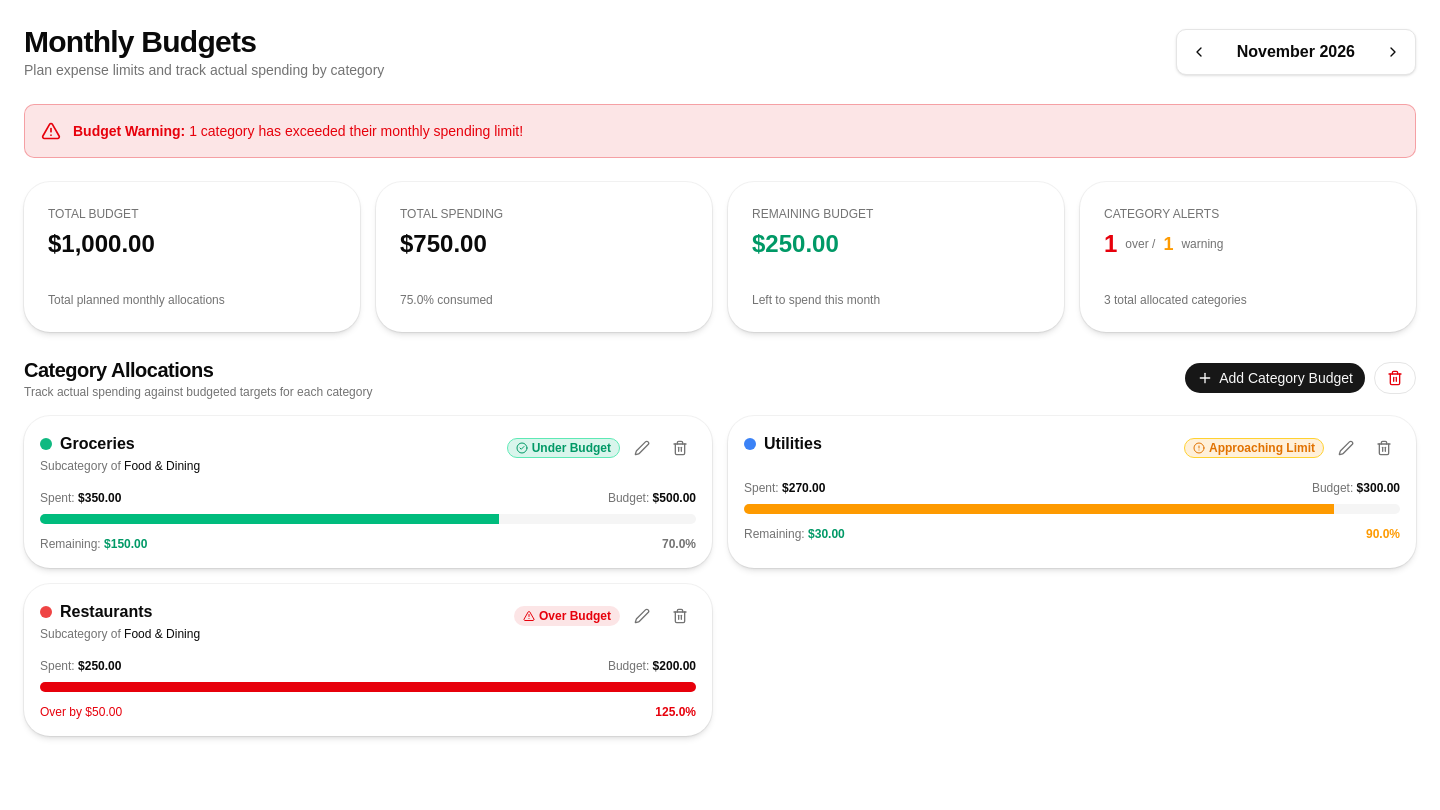
Test case: BudgetsPage › 15. does not list transfer or income categories in allocations
The width and height of the screenshot is (1440, 810).
Click the button with test id "add-allocation-btn" at (1275, 378), box [1184,362,1366,394]
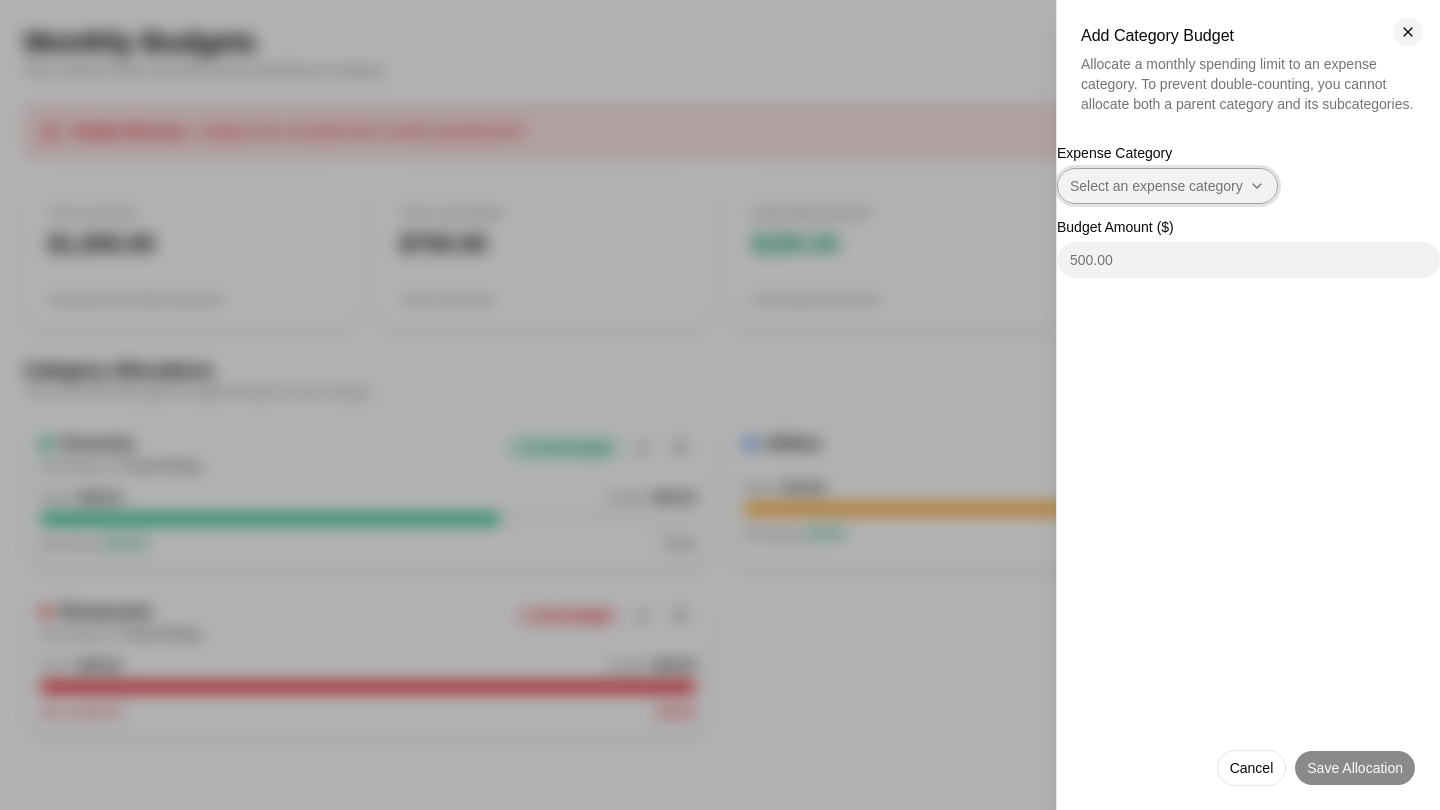
Expected: the dialog with test id "add-allocation-sheet" is shown, [1056,0,1439,809]
